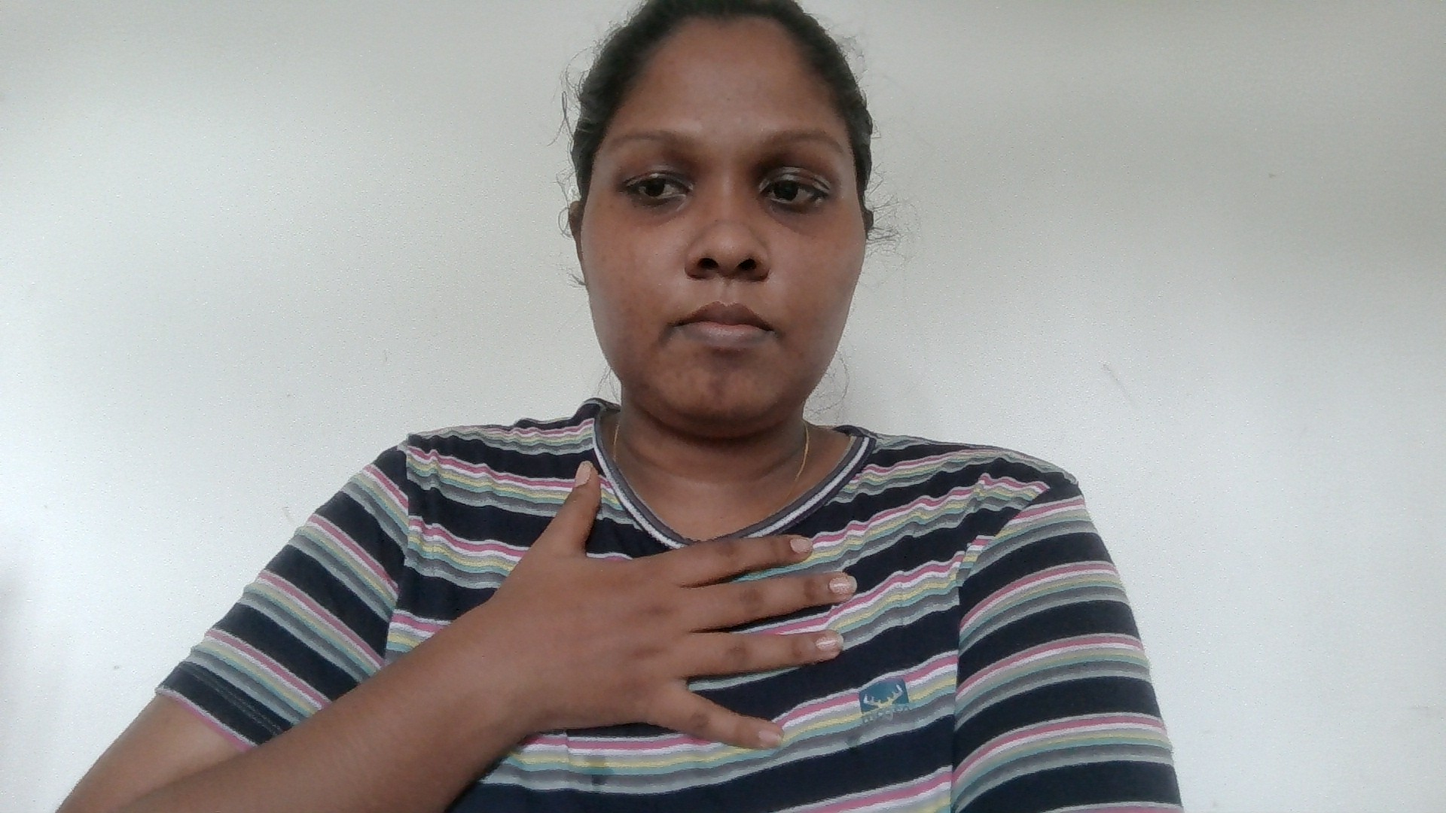Please: (480, 464, 886, 782)
